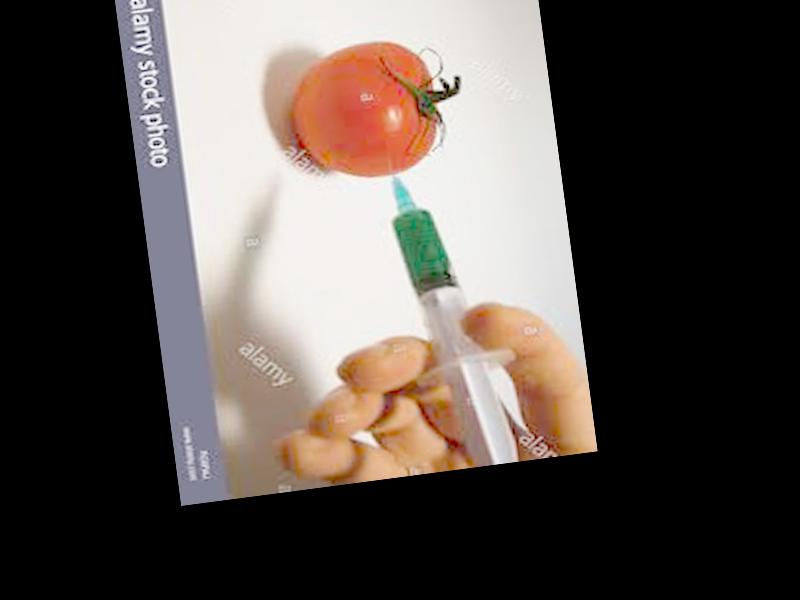Tomato: (285, 37, 443, 186)
